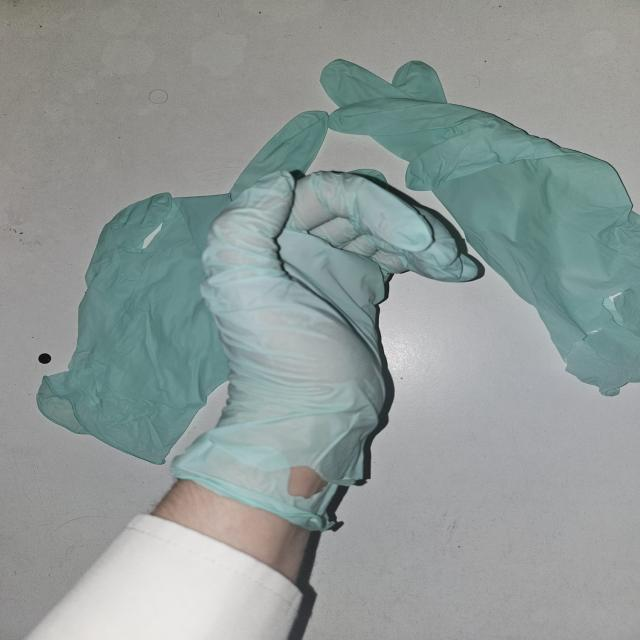gloves_damaged: (169, 166, 484, 528)
